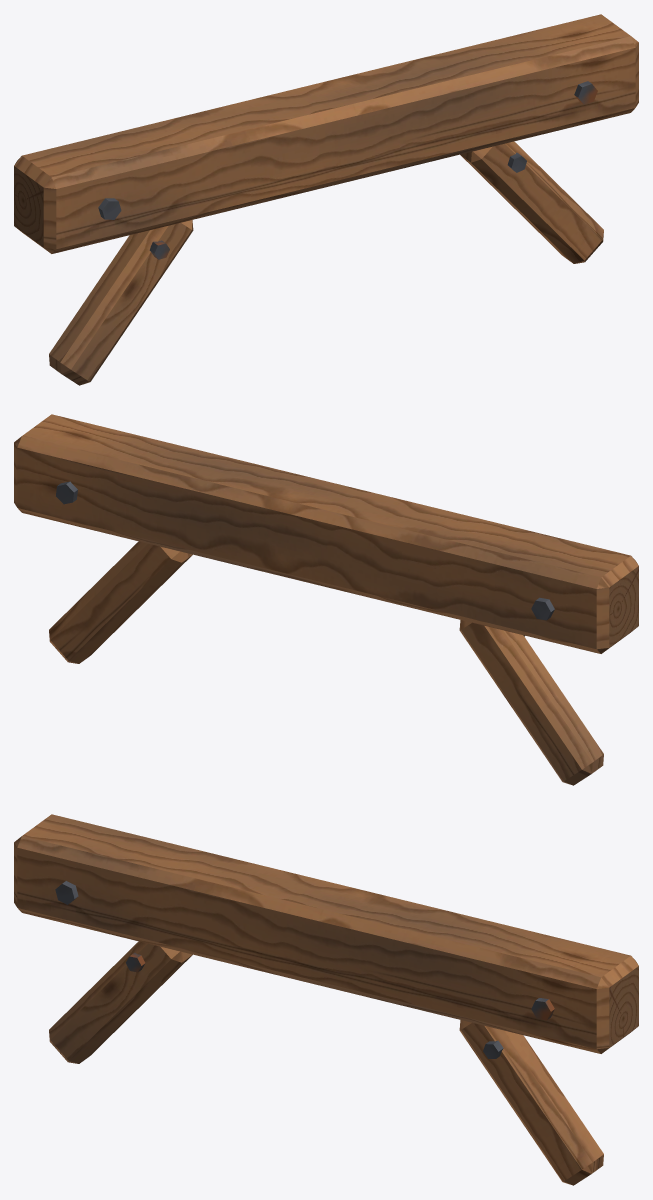
The model's file is kiris.glb.
The picture shows the model from 3 angles, top to bottom: view 1: azimuth 30°, elevation 25°; view 2: azimuth 150°, elevation 25°; view 3: azimuth 330°, elevation 25°; orthographic projection.
Parts seen in each view (by area): view 1: kiris; view 2: kiris; view 3: kiris.
Part boxes in pixels (x1,y1,x2,y2): kiris: (14,14,638,385); kiris: (14,414,638,785); kiris: (14,814,638,1185).
Bounding box in the file's own units: 3 × 1.08 × 0.41.
1 material, 1 textured.
